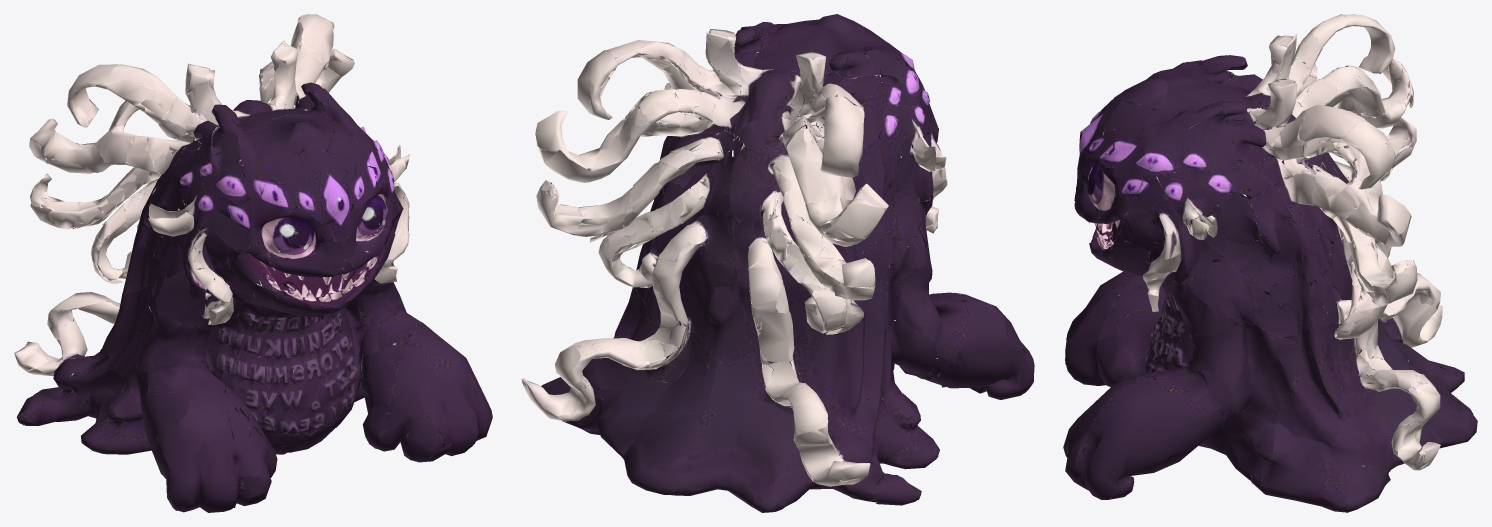
3 renders of one model, left to right at view 1: azimuth 30°, elevation 25°; view 2: azimuth 150°, elevation 25°; view 3: azimuth 270°, elevation 25°, orthographic. The views are drawn at different scales.
Parts seen in each view (by area): view 1: Mesh_0; view 2: Mesh_0; view 3: Mesh_0.
Boxes of the visible parts, left/top/right/bottom form: Mesh_0: left=14, top=14, right=492, bottom=512; Mesh_0: left=521, top=14, right=1034, bottom=512; Mesh_0: left=1063, top=14, right=1477, bottom=512.
Bounding box in the file's own units: 1.89 × 1.77 × 1.79.
Materials: 1 (1 with a texture image).
